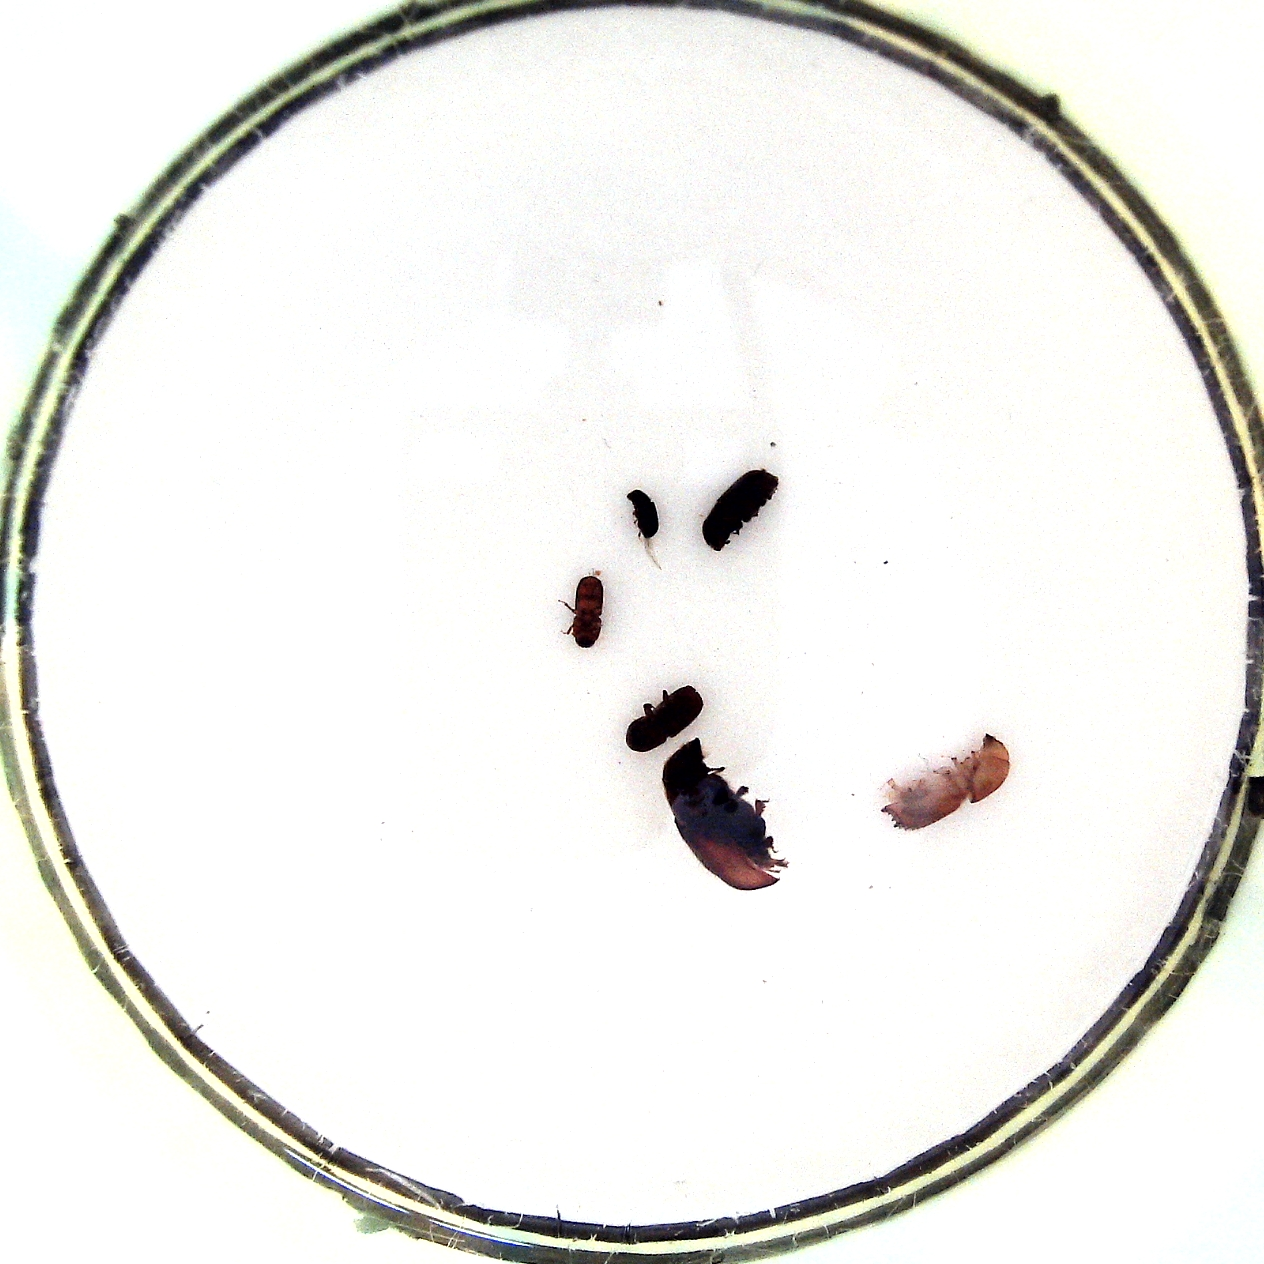Boerner: (876, 730, 1020, 835)
Leconte: (662, 738, 785, 897)
Linnaeus: (622, 685, 707, 754)
acuminatus: (556, 566, 608, 655)
armandi: (697, 466, 784, 550)
coleoptera: (625, 484, 666, 568)
